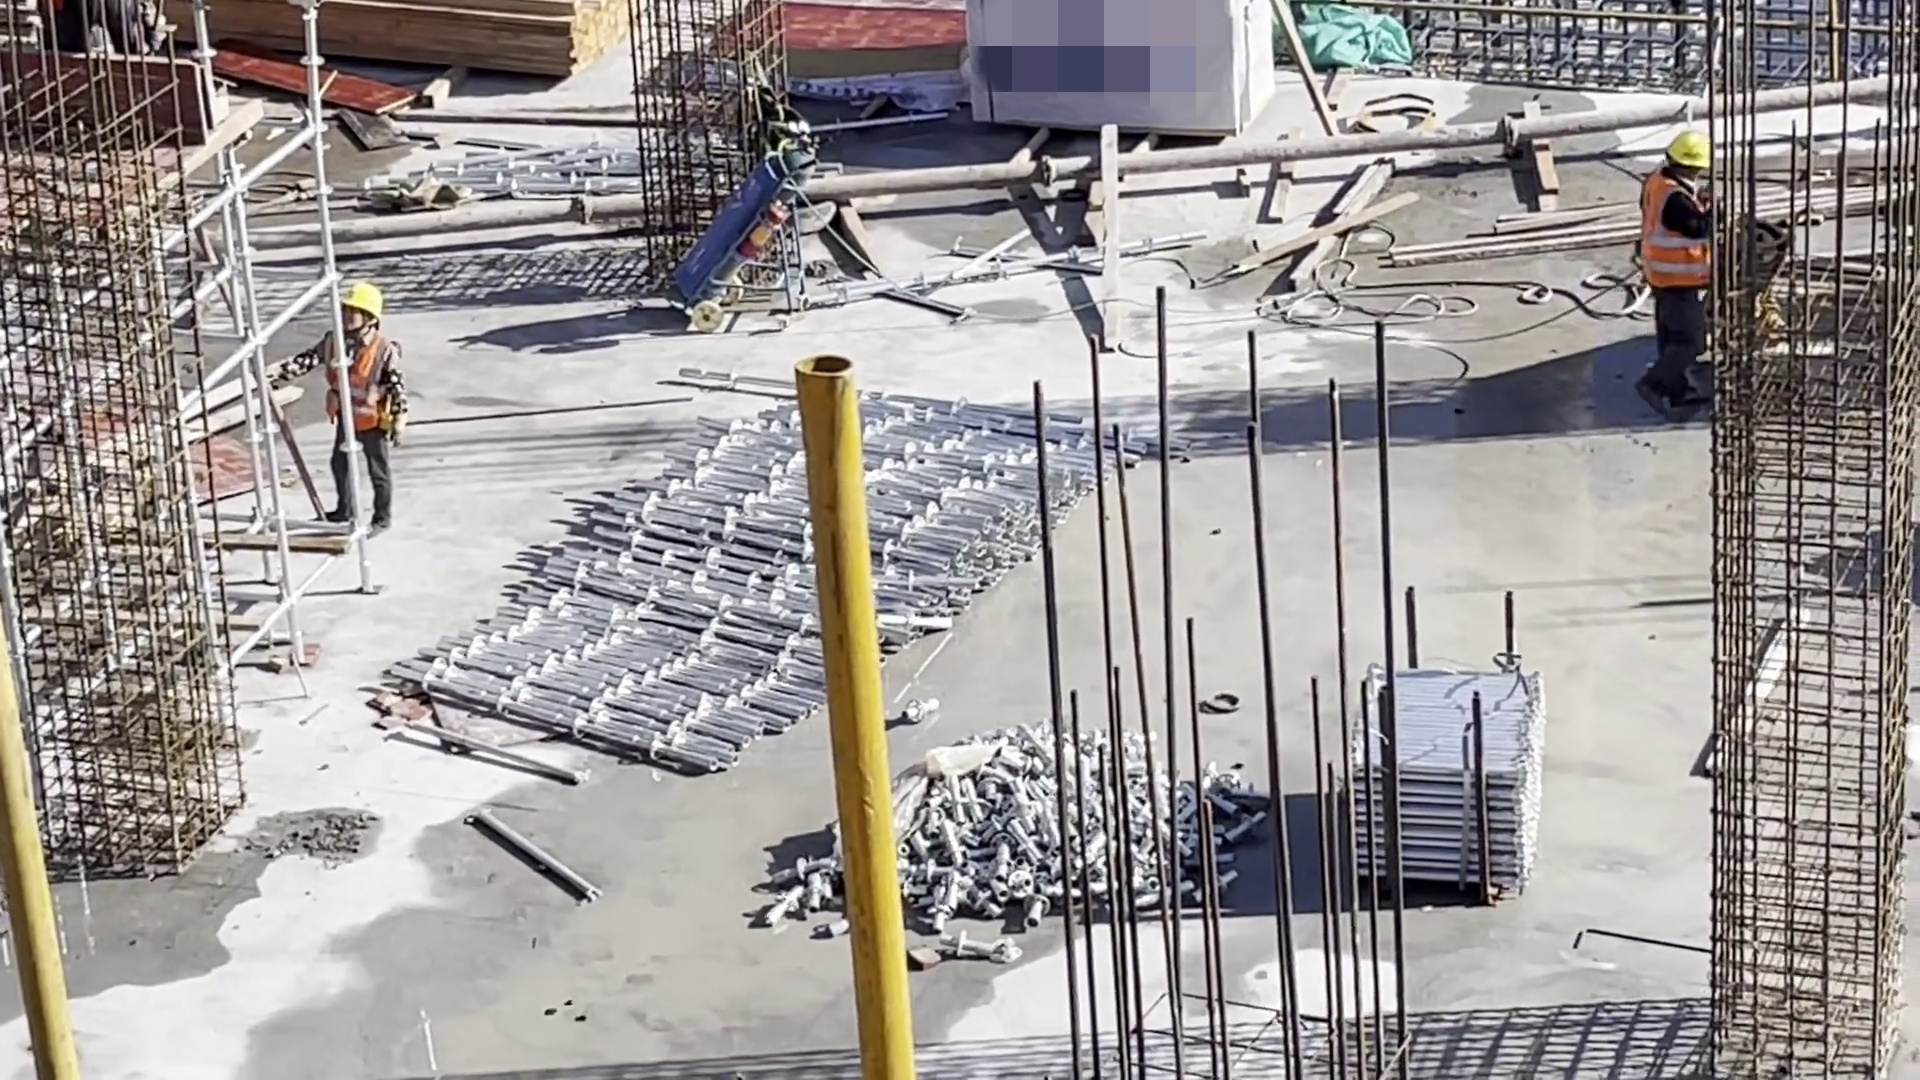helmet: (335, 276, 383, 320), (1667, 129, 1707, 164)
person: (269, 279, 412, 534), (1633, 123, 1725, 412)
scaffold: (394, 363, 1188, 783), (1344, 659, 1544, 896)
vest: (1637, 168, 1714, 302), (326, 327, 392, 434)
wood: (173, 1, 644, 82)
